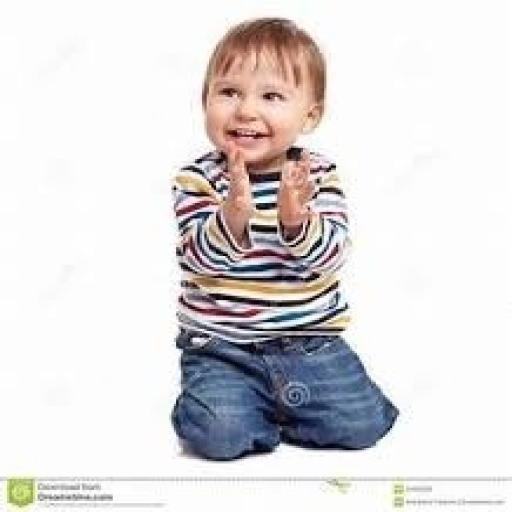clapping: (167, 16, 399, 462)
